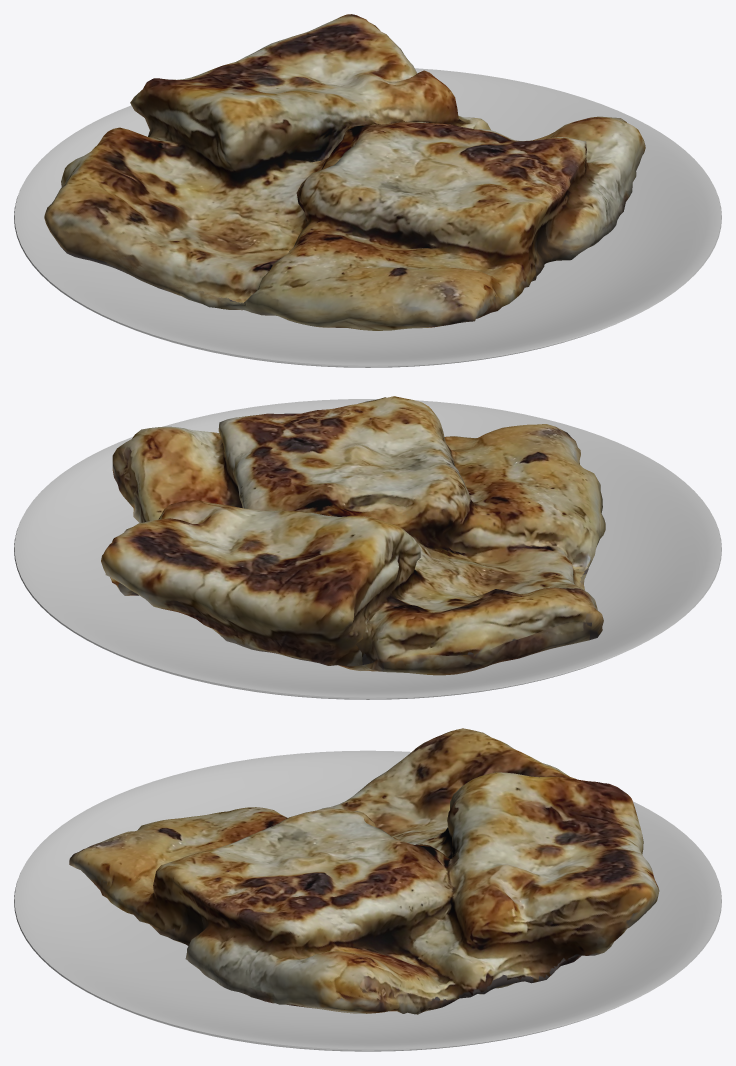
The model's file is kebab.glb.
3 views of the same model, one above another, from view 1: azimuth 30°, elevation 25°; view 2: azimuth 150°, elevation 25°; view 3: azimuth 270°, elevation 25° (orthographic).
Visible parts, largest first — view 1: Kebab_0, Plate_01_1; view 2: Kebab_0, Plate_01_1; view 3: Kebab_0, Plate_01_1.
Boxes of the visible parts, x1,y1,x2,y2 form: Kebab_0: [44, 14, 645, 330]; Plate_01_1: [14, 68, 721, 367]; Kebab_0: [101, 396, 605, 675]; Plate_01_1: [14, 399, 721, 699]; Kebab_0: [69, 728, 659, 1014]; Plate_01_1: [14, 750, 721, 1051].
Bounding box in the file's own units: 3.08 × 0.628 × 3.08.
2 materials, 1 textured.
